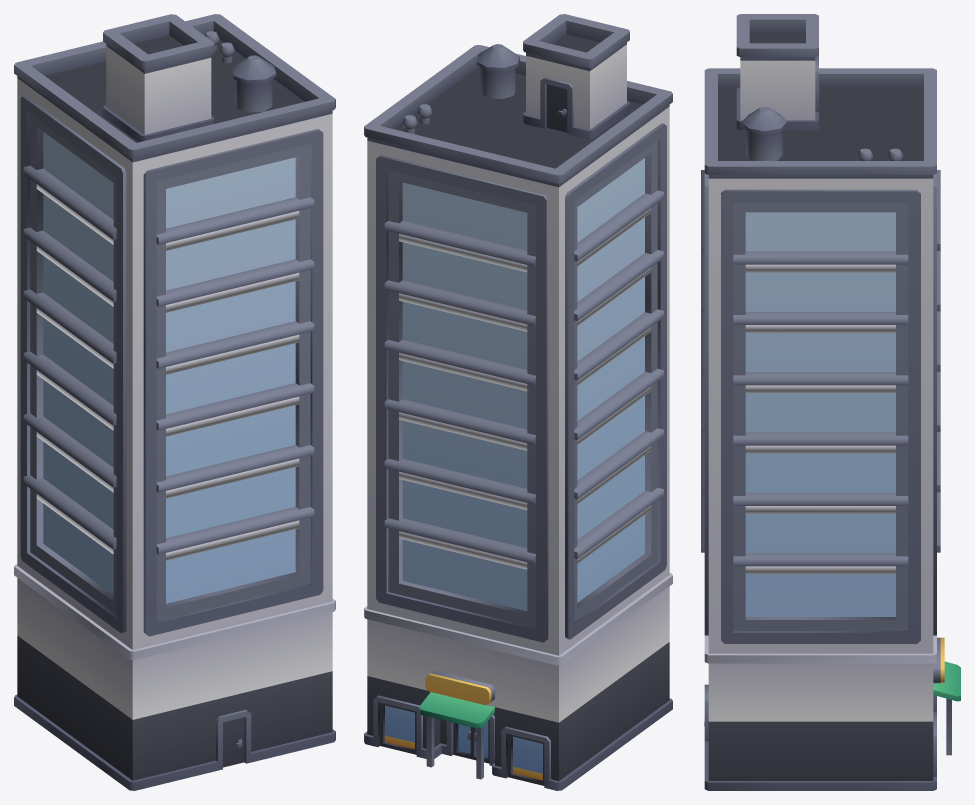
The model's file is commercial-building-skyscraper-c.glb.
The picture shows the model from 3 angles, left to right: view 1: azimuth 30°, elevation 25°; view 2: azimuth 150°, elevation 25°; view 3: azimuth 270°, elevation 25°; orthographic projection. The views are drawn at different scales.
Visible parts, largest first — view 1: building-skyscraper-c; view 2: building-skyscraper-c; view 3: building-skyscraper-c.
Boxes of the visible parts, box(x1,y1,x2,y2) form: building-skyscraper-c: box(14, 14, 335, 790); building-skyscraper-c: box(364, 14, 672, 790); building-skyscraper-c: box(701, 14, 960, 790).
Size of the model in its own units: 1.28 by 4.08 by 1.39.
1 material, 1 textured.
